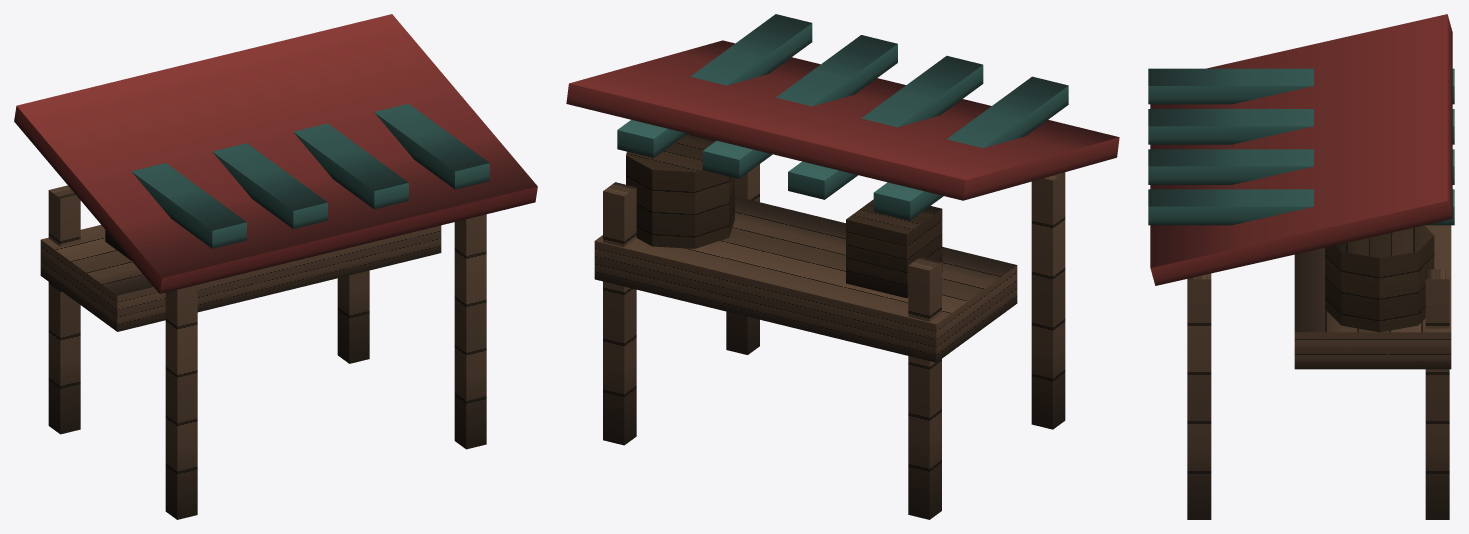
File: market_stall.glb
3 views of the same model, side by side, from view 1: azimuth 30°, elevation 25°; view 2: azimuth 150°, elevation 25°; view 3: azimuth 270°, elevation 25° (orthographic). The views are drawn at different scales.
Visible parts, largest first — view 1: market_stall; view 2: market_stall; view 3: market_stall.
Part boxes in pixels (bbox=[...]): market_stall: bbox=[14, 14, 537, 519]; market_stall: bbox=[566, 14, 1119, 519]; market_stall: bbox=[1148, 14, 1454, 519].
Size of the model in its own units: 1.3 by 1.09 by 0.9.
Materials: 1 (1 with a texture image).
